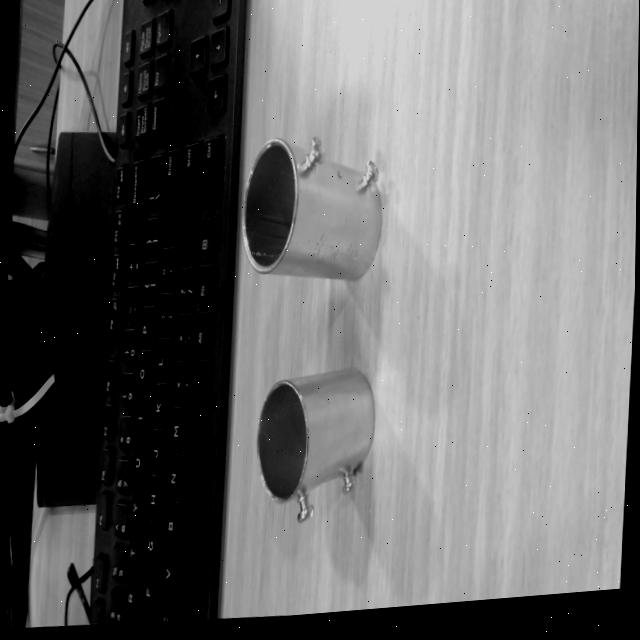Co_Lon: (236, 133, 386, 283)
Co_Nho: (242, 365, 387, 506)
